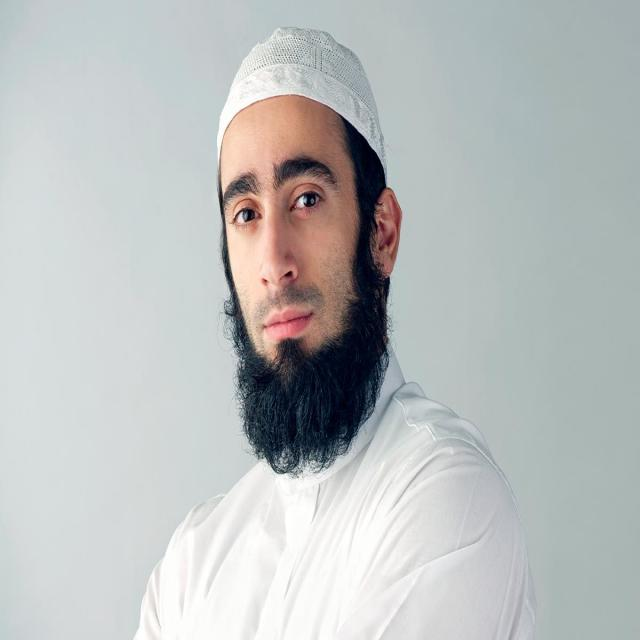beard: (222, 238, 390, 475)
